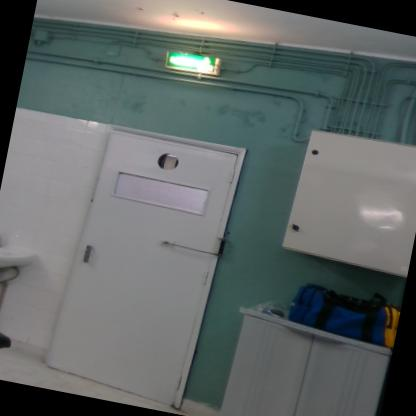closed: (41, 108, 266, 414)
